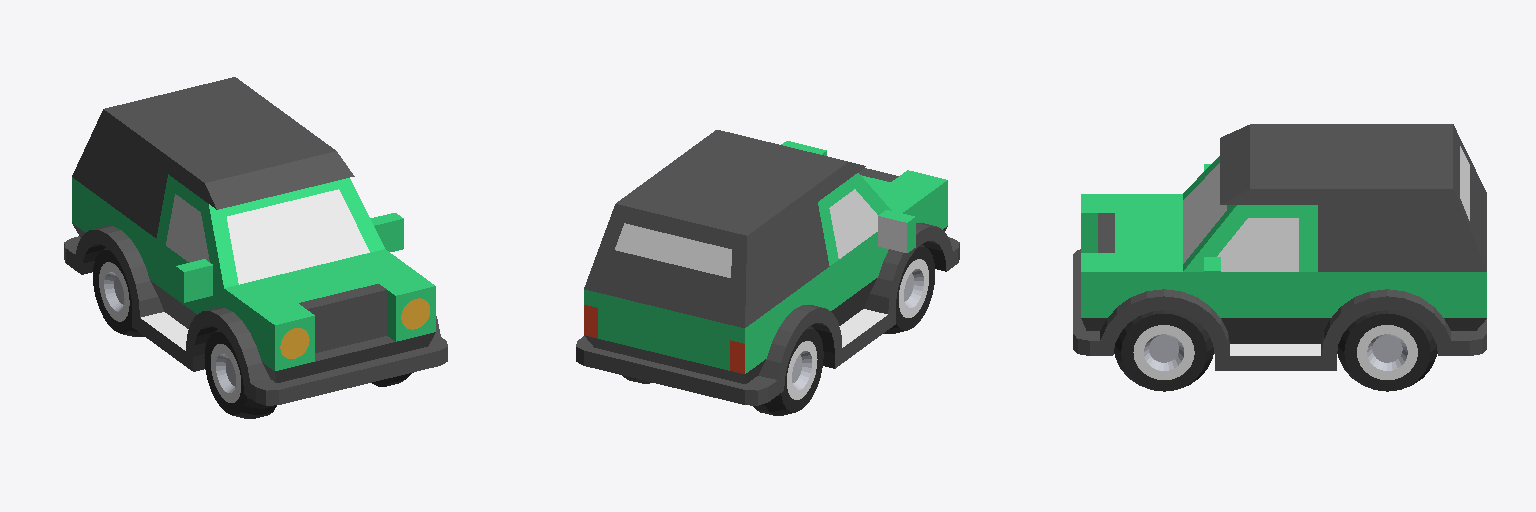
The model's file is suv.obj.
3 renders of one model, left to right at view 1: azimuth 30°, elevation 25°; view 2: azimuth 150°, elevation 25°; view 3: azimuth 270°, elevation 25°, orthographic.
Parts seen in each view (by area): view 1: body, wheel_frontRight, wheel_backRight; view 2: body, wheel_backRight, wheel_frontRight; view 3: body, wheel_backLeft, wheel_frontLeft.
Part boxes in pixels (bbox=[...]): body: bbox=[64, 77, 447, 405]; wheel_frontRight: bbox=[204, 329, 276, 418]; wheel_backRight: bbox=[93, 247, 144, 336]; body: bbox=[576, 130, 959, 405]; wheel_backRight: bbox=[753, 326, 823, 415]; wheel_frontRight: bbox=[883, 244, 934, 333]; body: bbox=[1073, 124, 1486, 370]; wheel_backLeft: bbox=[1338, 310, 1436, 391]; wheel_frontLeft: bbox=[1114, 310, 1213, 391].
Bounding box in the file's own units: 1.5 × 1.3 × 2.45.